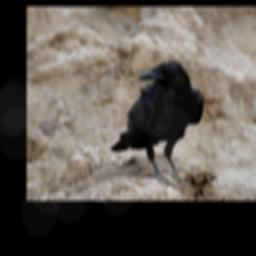Crow: (111, 60, 204, 185)
